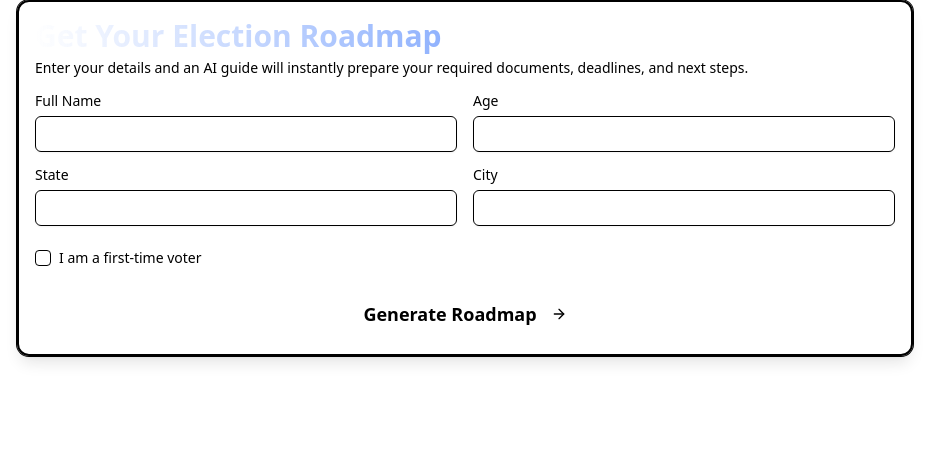
Test: VoterJourney Component › should show age validation error for underage users
Step 1. Type "Test" into the field labelled "Full Name" → (246,134), box [35,116,457,152]
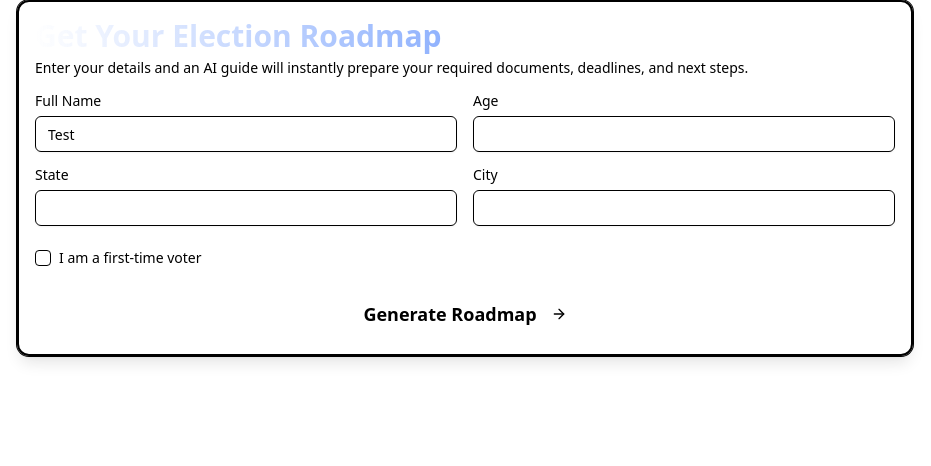
Step 2. Type "16" into the number field labelled "Age" → (684,134), box [473,116,895,152]
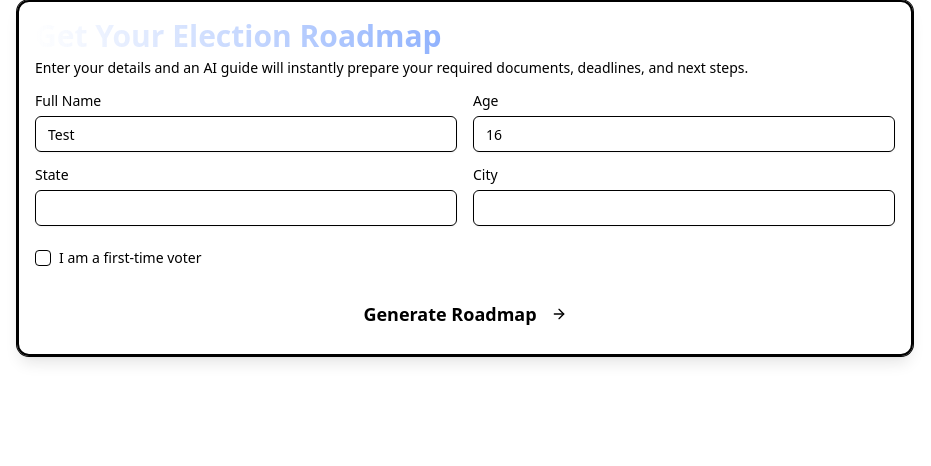
Step 3. Type "Delhi" into the field labelled "State" → (246,208), box [35,190,457,226]
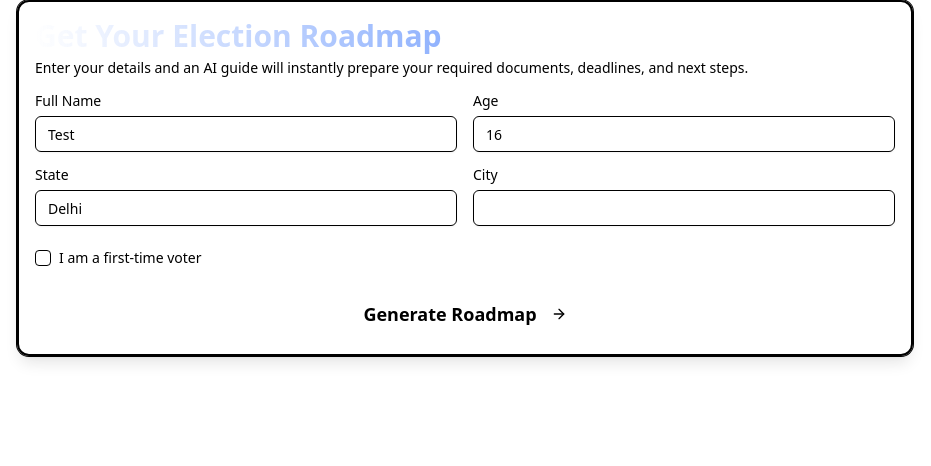
Step 4. Type "Delhi" into the field labelled "City" → (684,208), box [473,190,895,226]
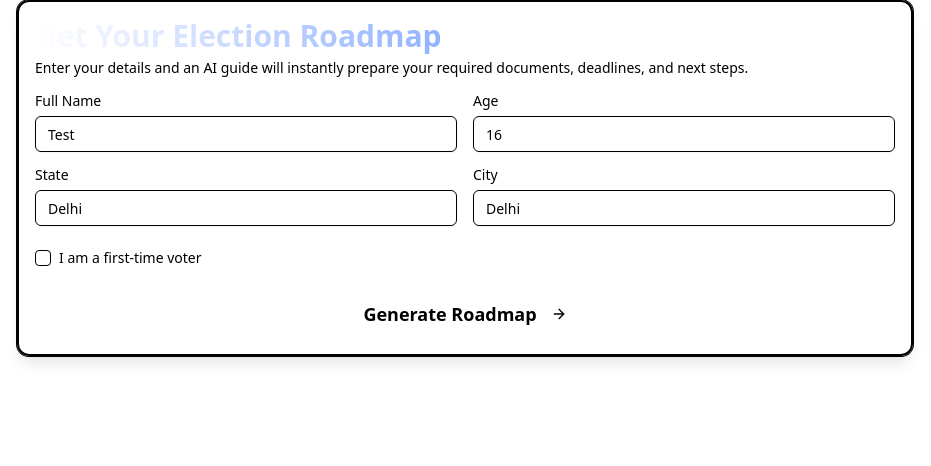
Step 5. Click the button "Generate Roadmap" → (465,314), box [35,290,895,338]
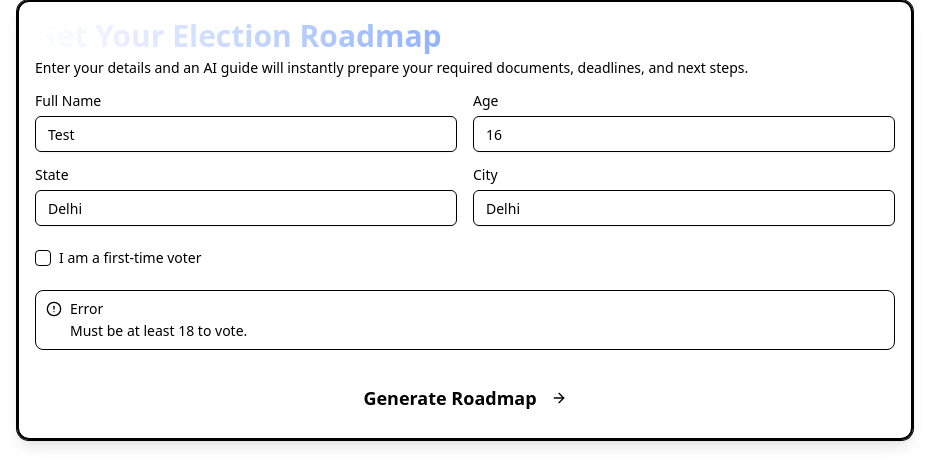
Expected: the text "Must be at least 18 to vote." is shown, [70,321,247,340]
